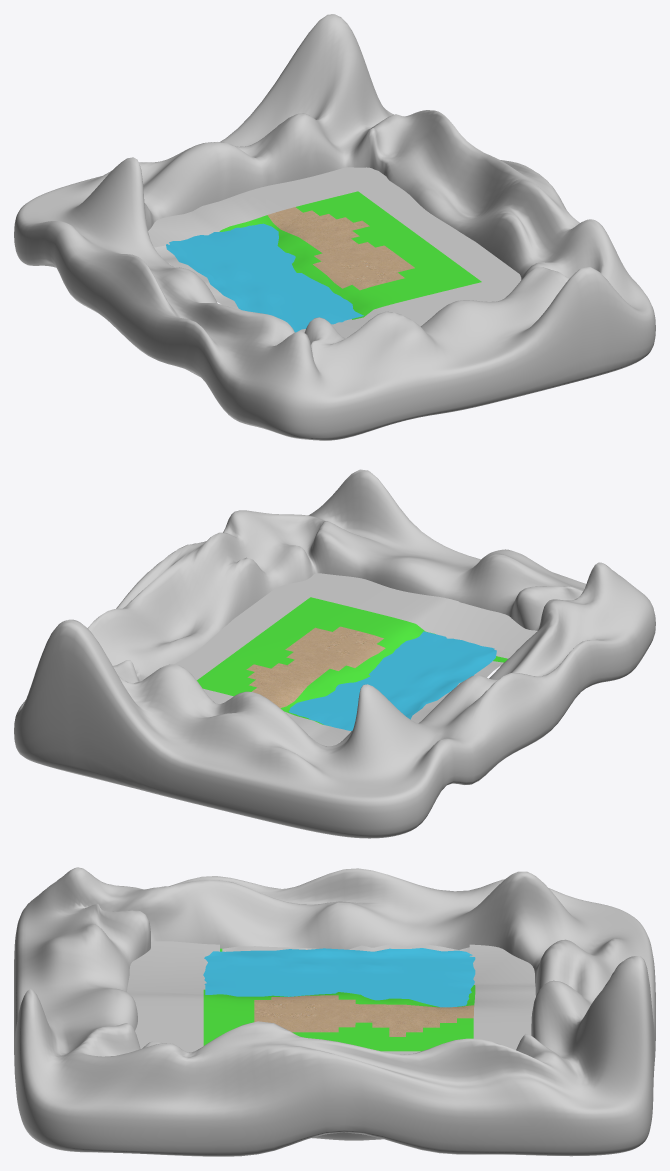
Rendered from relief_.fbx.
3 renders of one model, top to bottom at view 1: azimuth 30°, elevation 25°; view 2: azimuth 150°, elevation 25°; view 3: azimuth 270°, elevation 25°, orthographic. The views are drawn at different scales.
Visible parts, largest first — view 1: Plane.002, Plane, Plane.001; view 2: Plane.002, Plane, Plane.001; view 3: Plane.002, Plane, Plane.001.
Part boxes in pixels (x1,y1,x2,y2): Plane.002: (14,14,655,440); Plane: (148,167,521,338); Plane.001: (166,223,363,332); Plane.002: (14,469,655,838); Plane: (174,573,537,746); Plane.001: (289,631,496,730); Plane.002: (14,867,655,1156); Plane: (127,941,535,1054); Plane.001: (203,948,475,1007).
Size of the model in its own units: 8079 by 3090 by 9984.
